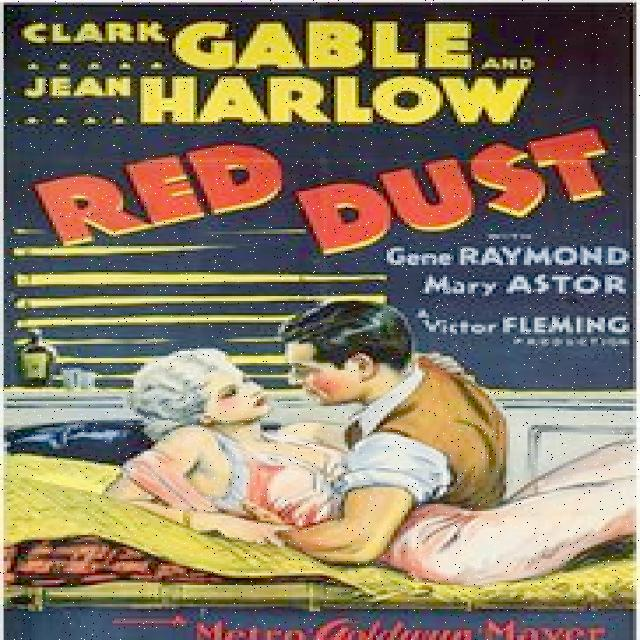movie-judul: (11, 126, 640, 256)
picture: (7, 301, 640, 605)
